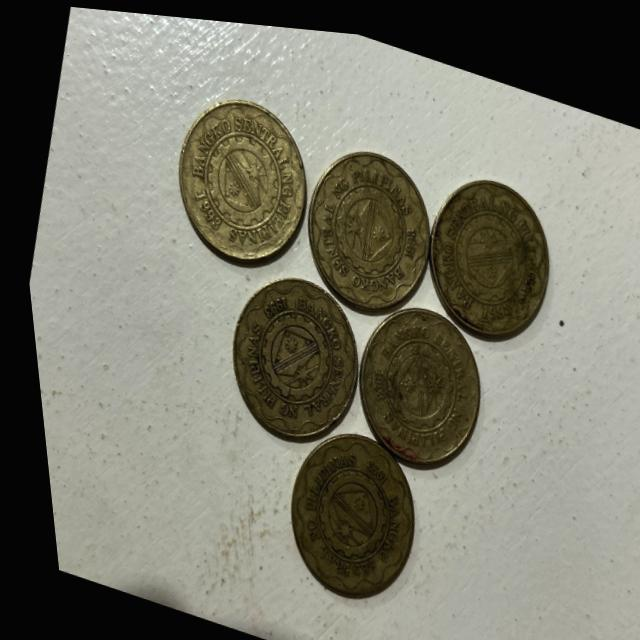5_Old_Back: (196, 237, 378, 461), (250, 399, 428, 614), (147, 75, 324, 278), (281, 126, 449, 327), (401, 151, 568, 349), (330, 281, 499, 471)
